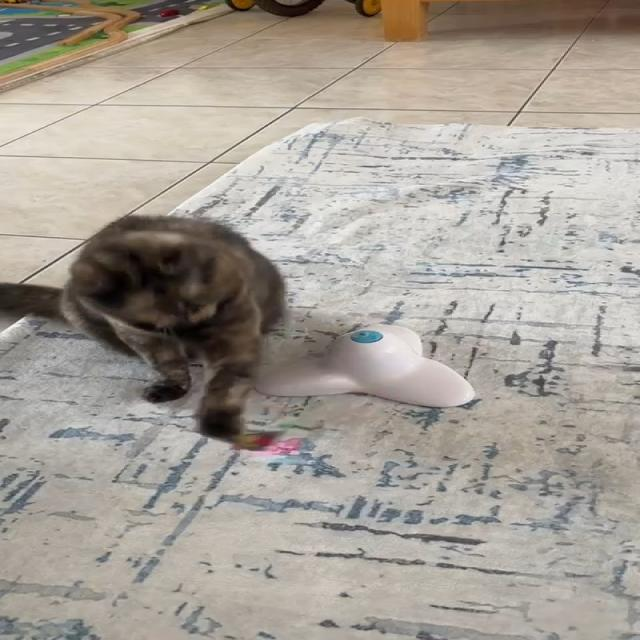authorized: (0, 212, 289, 442)
